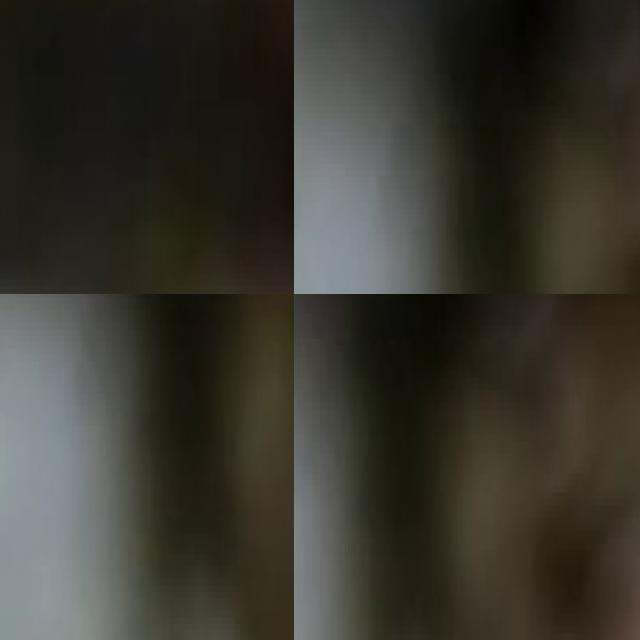fish: (0, 0, 294, 294), (159, 294, 294, 640)
